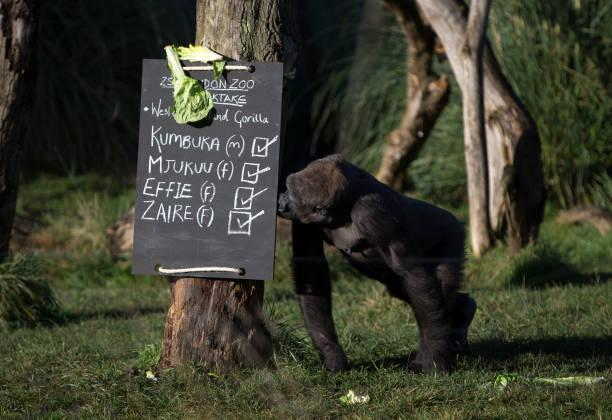gorille_Autres: (280, 152, 469, 379)
